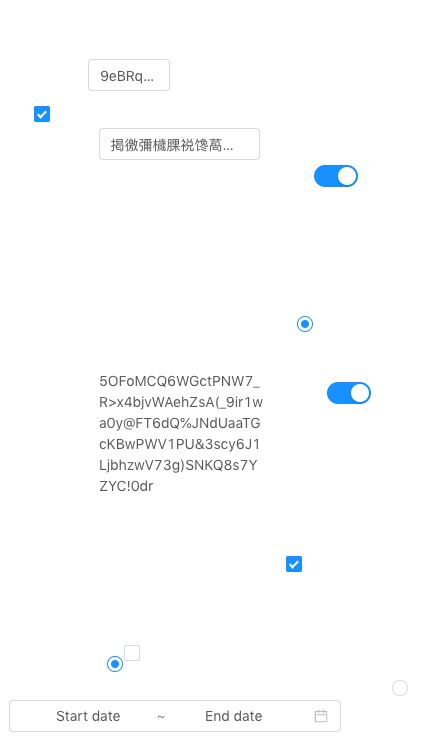Checkbox: (286, 553, 302, 574), (124, 642, 140, 663), (34, 103, 50, 124)
Input: (99, 128, 260, 160), (88, 59, 170, 91)
Radio: (107, 653, 123, 673), (392, 677, 408, 697), (297, 313, 313, 333)
RangePicker: (9, 700, 350, 732)
Switch: (327, 381, 371, 405), (314, 164, 358, 188)
Text: (99, 370, 263, 508)
